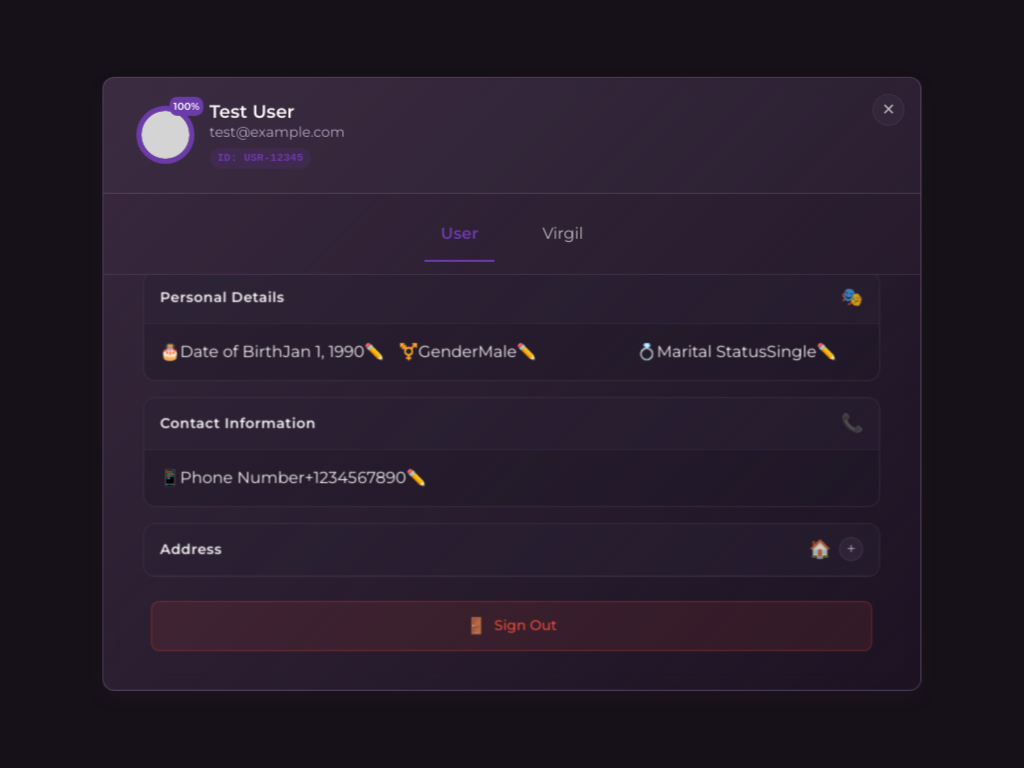
Scenario: UserProfileViewer › address section › should toggle expand/collapse
This screenshot has width=1024, height=768.
(page scrolled)
Click the element showing "Address 🏠 +" at x=512, y=550, box [144,524,880,576]
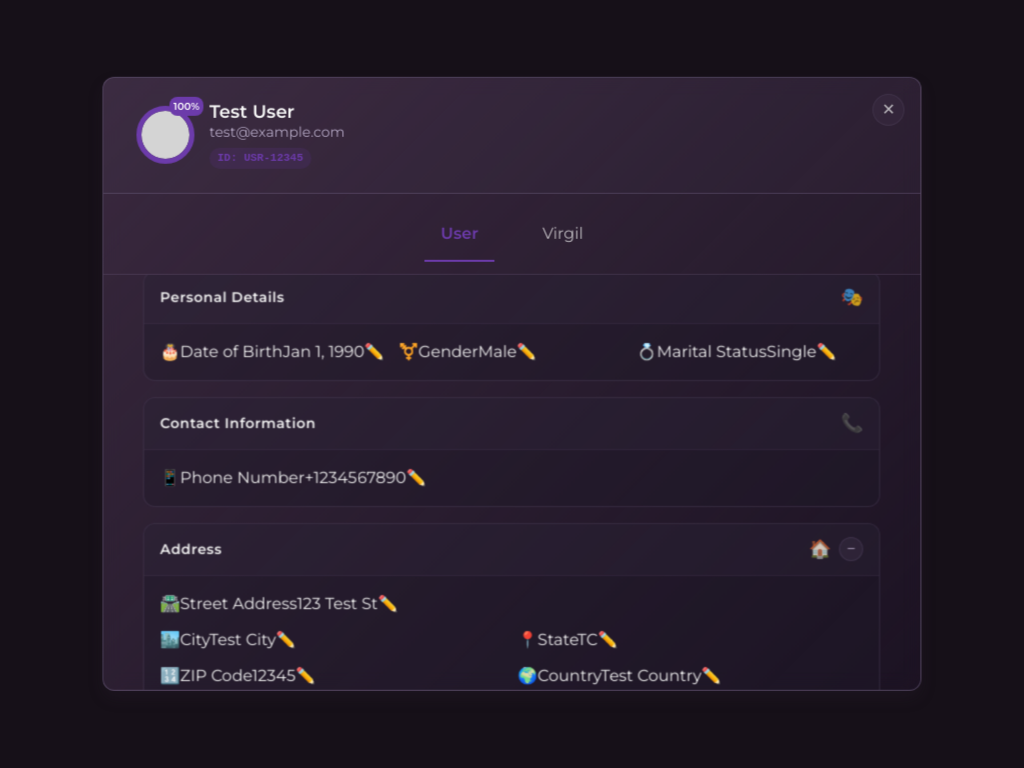
Result: the button named "Hide address" is shown at [840,537,864,561]
Click the element showing "Address 🏠 −" at x=512, y=550, box [144,524,880,576]
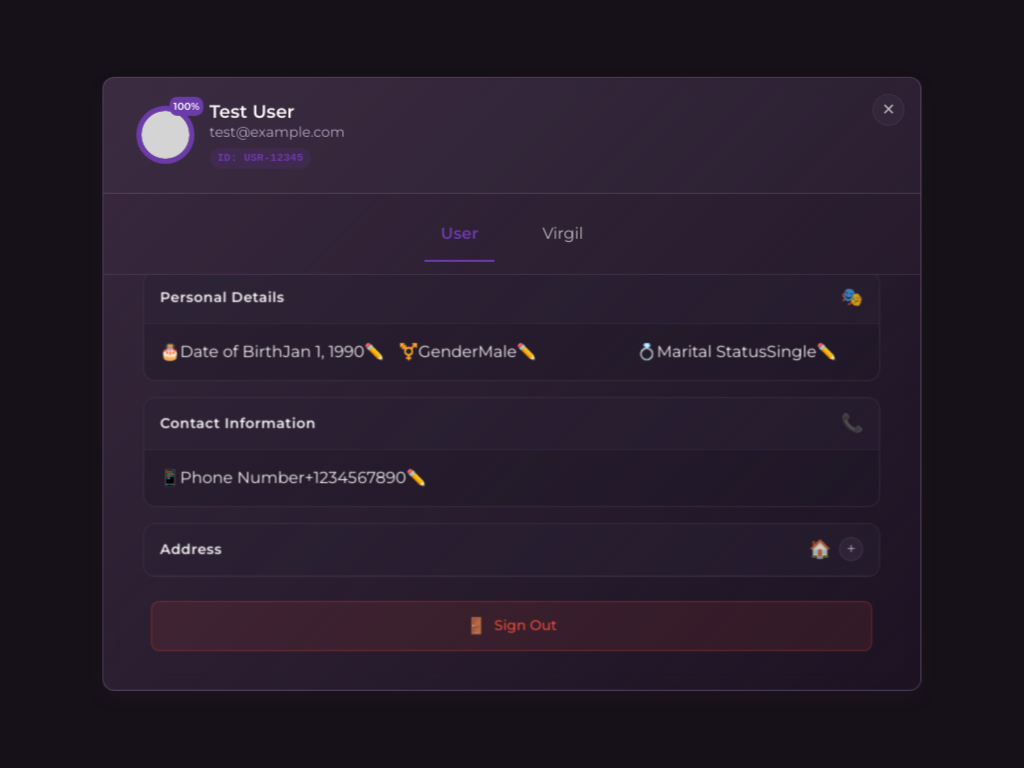
Result: the text labelled "Street Address" is gone
Result: the button named "Show address" is shown at [840,537,864,561]
